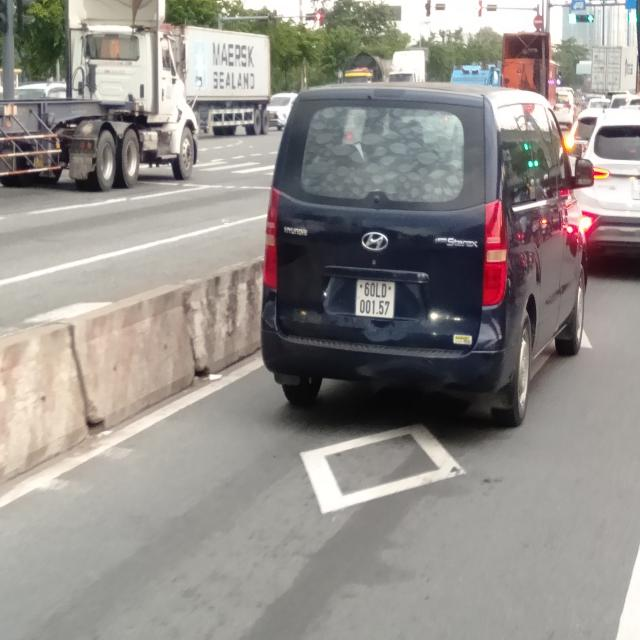bien_trang: (356, 276, 393, 323)
